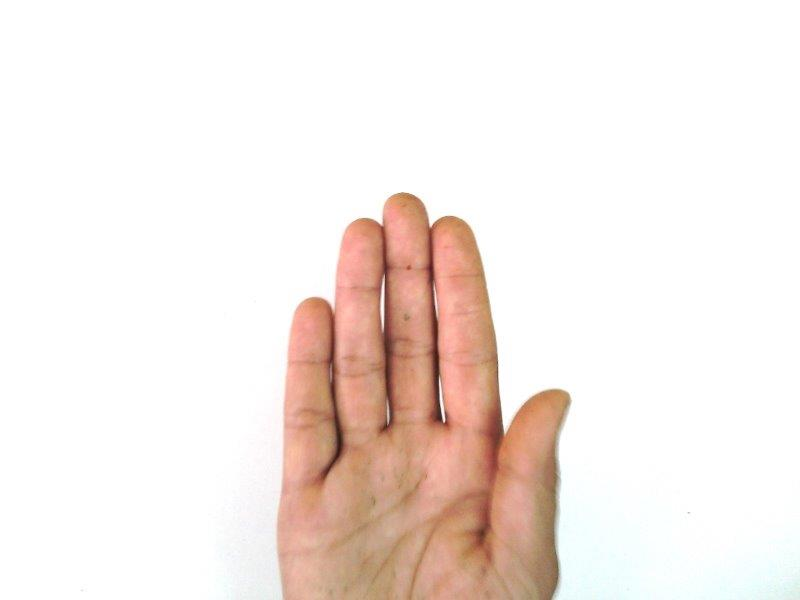hand: (275, 192, 573, 600)
